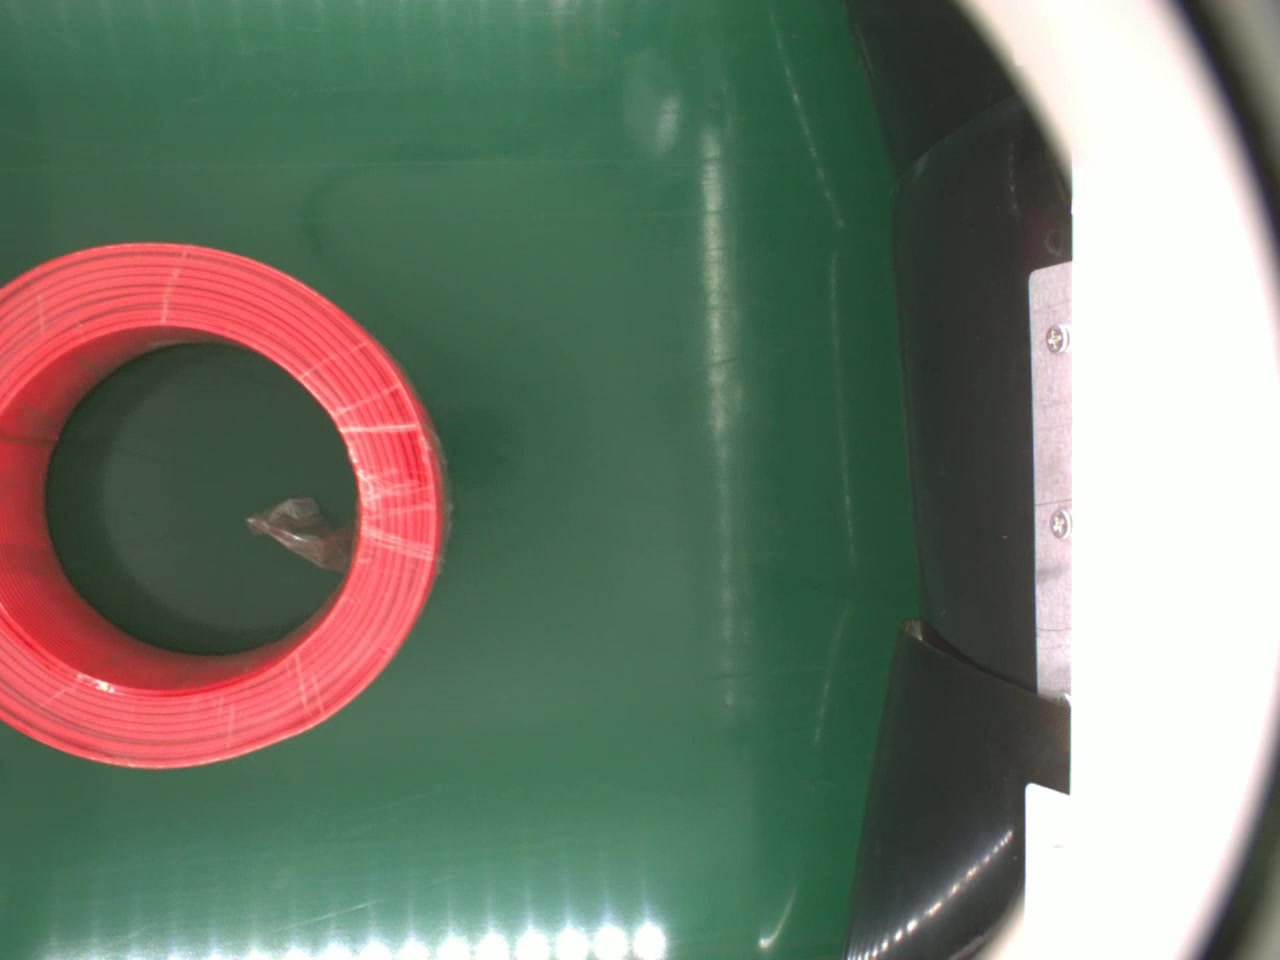red: (0, 239, 445, 772)
